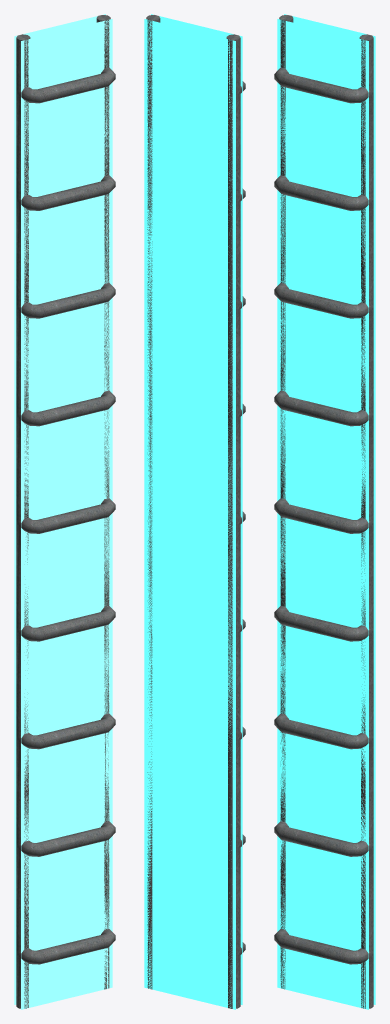
Rendered from yt1300_ladder_l0.fbx.
3 views of the same model, side by side, from view 1: azimuth 30°, elevation 25°; view 2: azimuth 150°, elevation 25°; view 3: azimuth 330°, elevation 25° (orthographic).
Parts seen in each view (by area): view 1: mesh_node; view 2: mesh_node; view 3: mesh_node.
Boxes of the visible parts, left/top/right/bottom form: mesh_node: left=14, top=14, right=115, bottom=1009; mesh_node: left=144, top=14, right=245, bottom=1009; mesh_node: left=274, top=14, right=375, bottom=1009.
Size of the model in its own units: 0.5345 by 5.4 by 0.1578.
